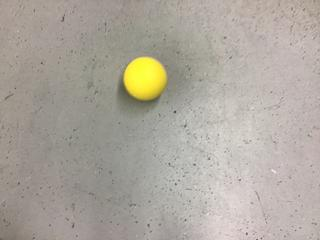power_cell: (125, 52, 168, 102)
